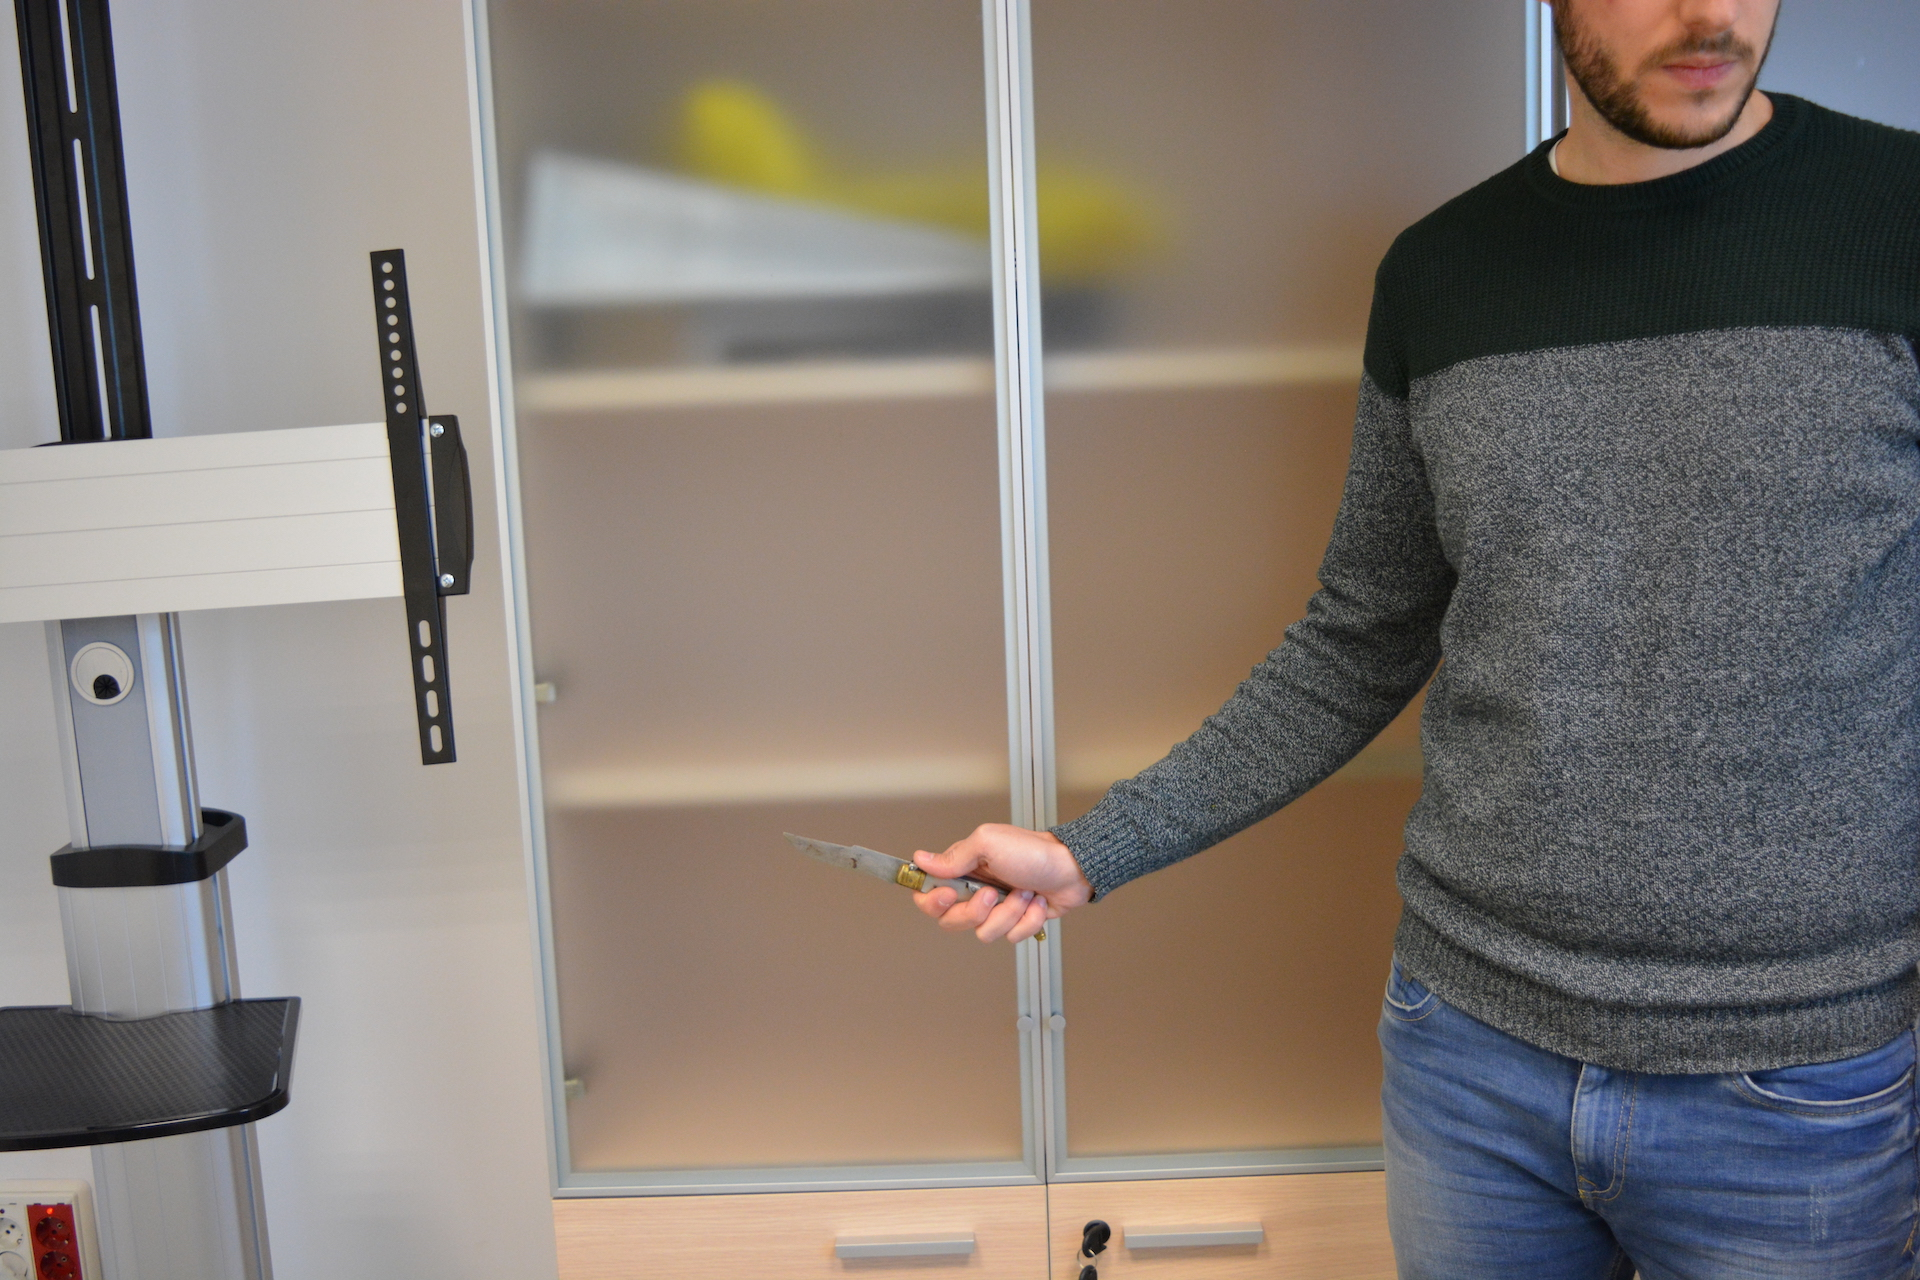knife: (771, 821, 1054, 951)
